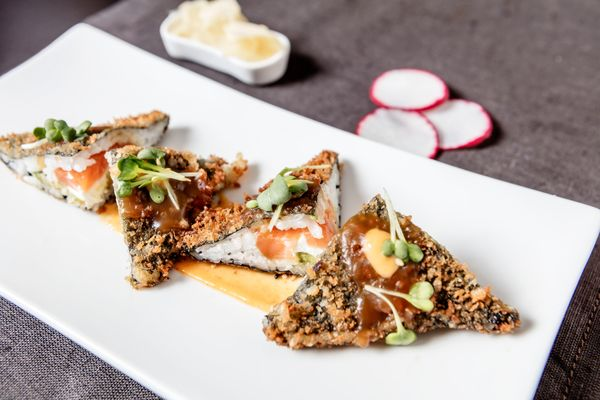soup: (0, 107, 170, 210)
